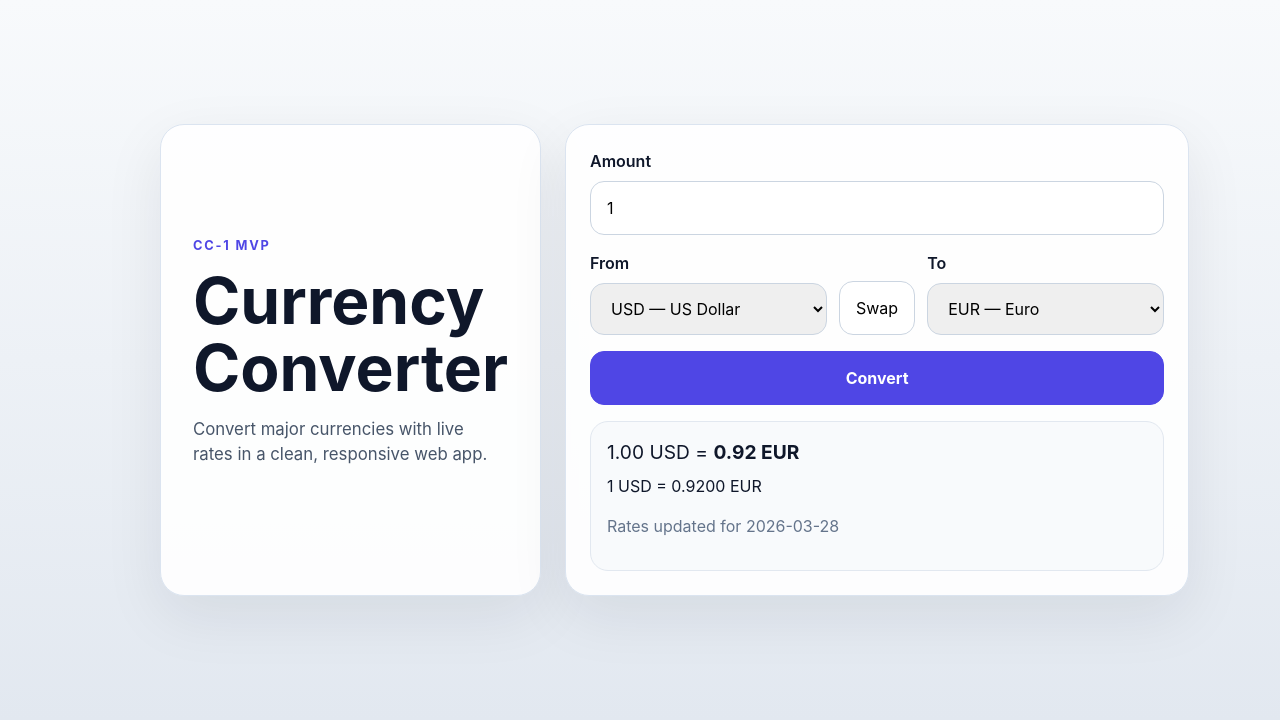
App › swaps selected currencies
Check: the text "1.00 USD = 0.92 EUR" is shown, box [607,440,799,464]
Check: the dropdown labelled "From" shows "USD — US Dollar", box [590,283,827,335]
What coordinates should you click on to do the following:
click the button "Swap"
I would click on:
 (877, 308)
Its box is [839,281,915,335].
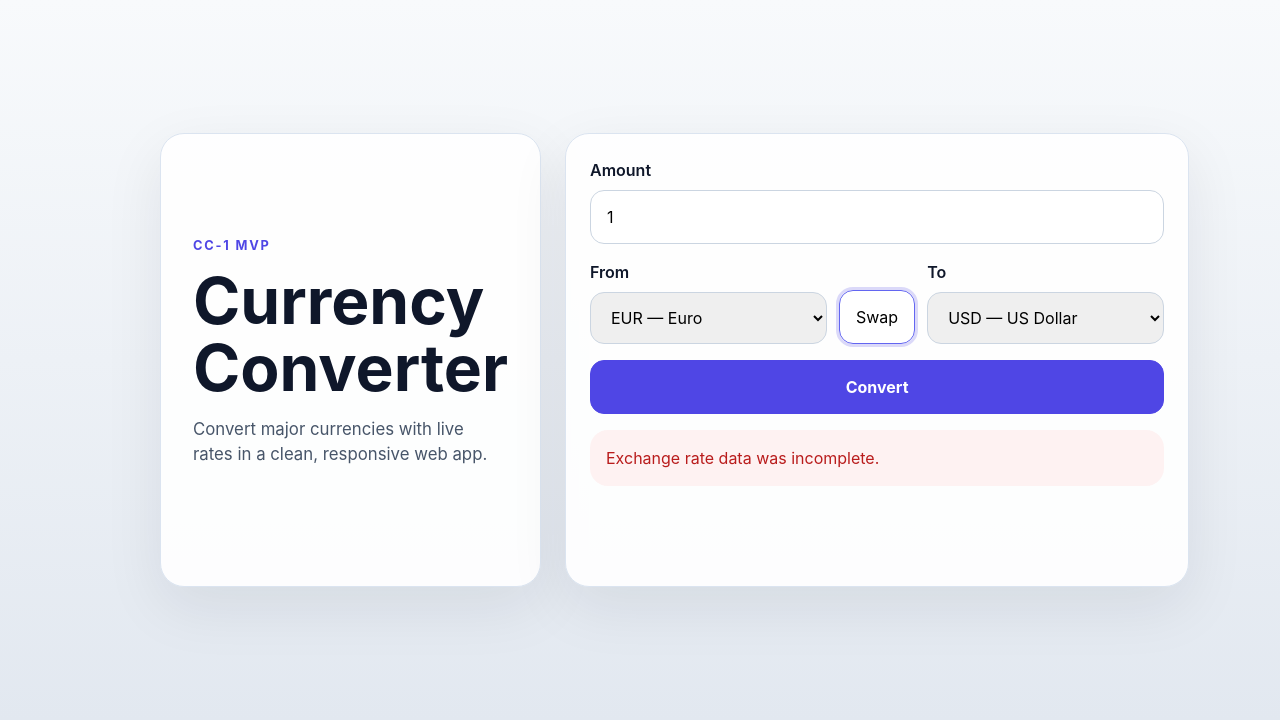
Check: the dropdown labelled "From" shows "EUR — Euro", box [590,292,827,344]
Check: the dropdown labelled "To" shows "USD — US Dollar", box [927,292,1164,344]
